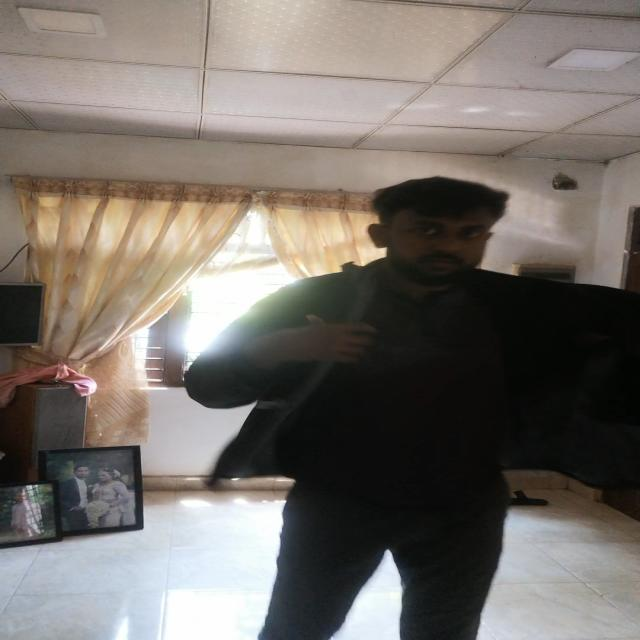Jacket_Wearer: (179, 253, 640, 521)
Person: (178, 161, 640, 640)
